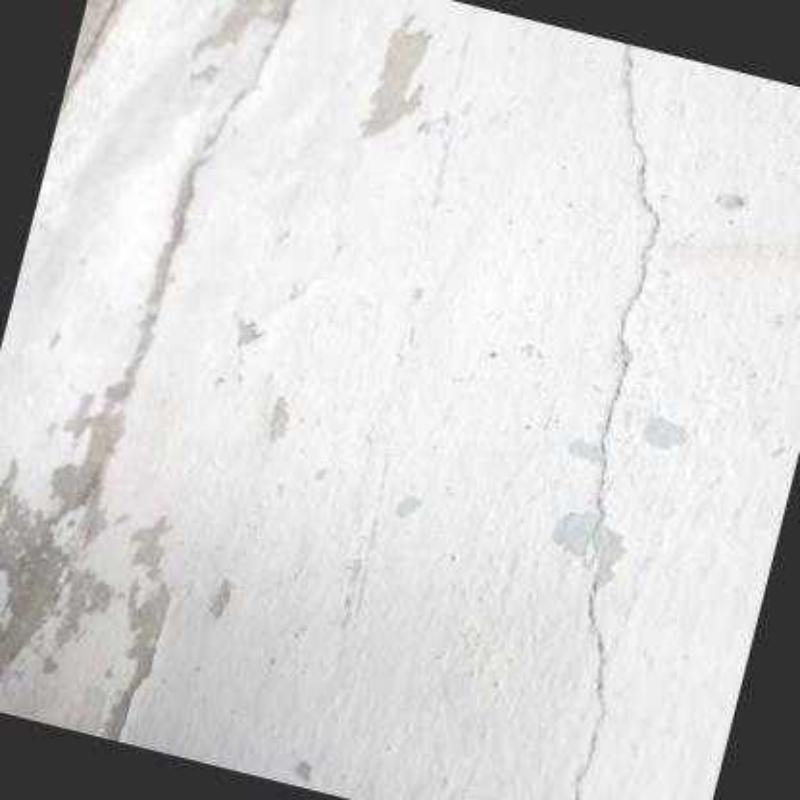pothole: (569, 44, 663, 800)
